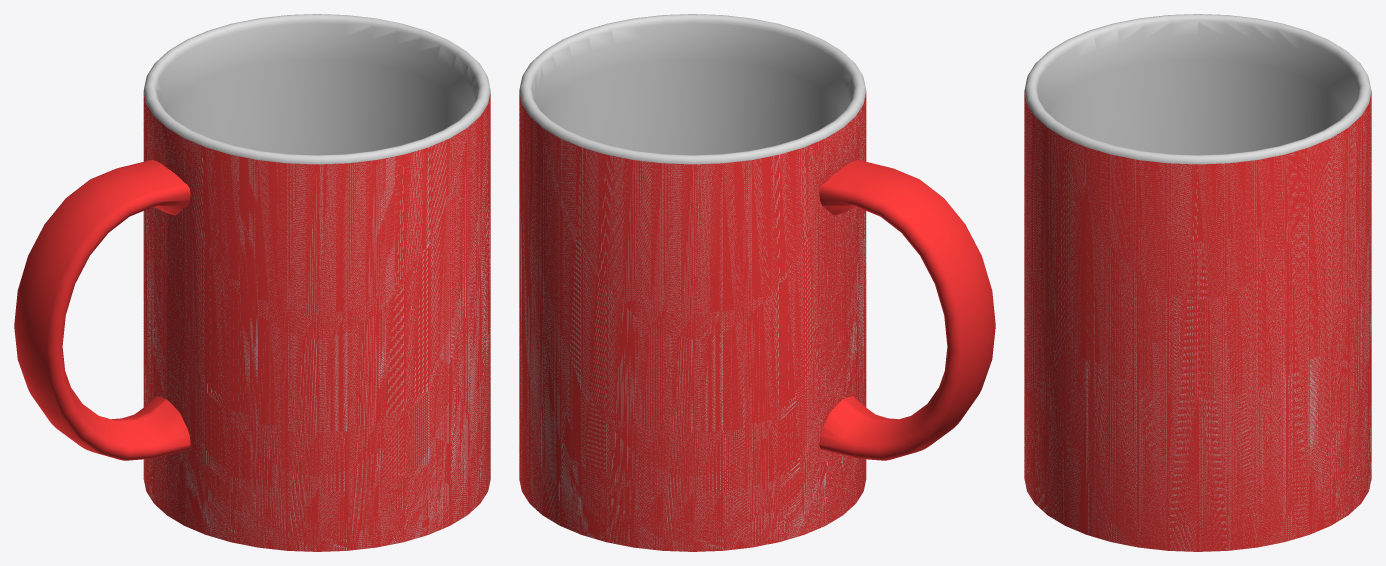
File: mug.dae
The picture shows the model from 3 angles, left to right: view 1: azimuth 30°, elevation 25°; view 2: azimuth 150°, elevation 25°; view 3: azimuth 270°, elevation 25°; orthographic projection.
Parts seen in each view (by area): view 1: group_0 (×3); view 2: group_0 (×3); view 3: group_0 (×2).
Part boxes in pixels (x1,y1,x2,y2): group_0 (×3): [14, 14, 490, 551]; group_0 (×3): [519, 14, 995, 551]; group_0 (×2): [1024, 14, 1371, 551].
Bounding box in the file's own units: 4.62 × 3.15 × 3.94.
